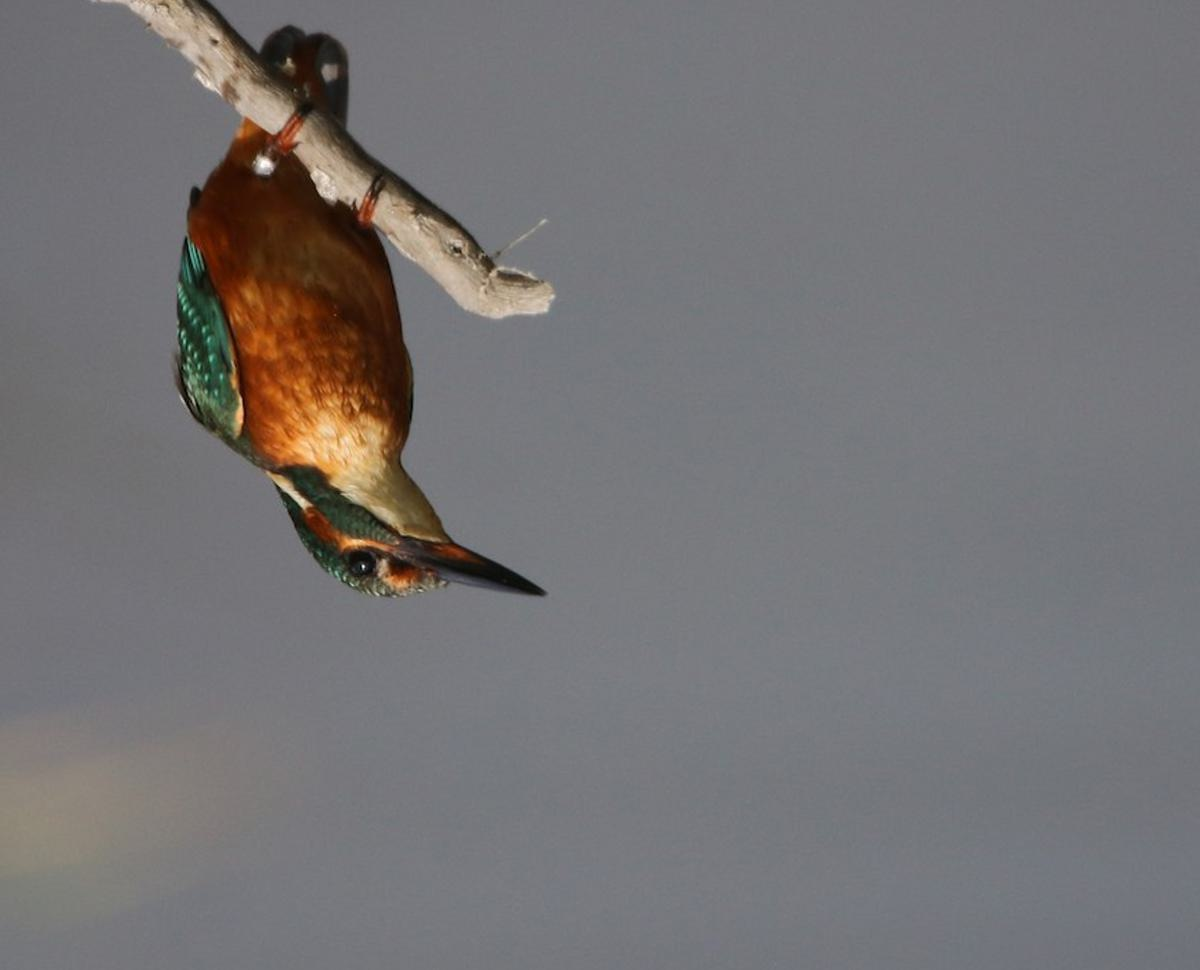kingfisher: (150, 24, 561, 623)
